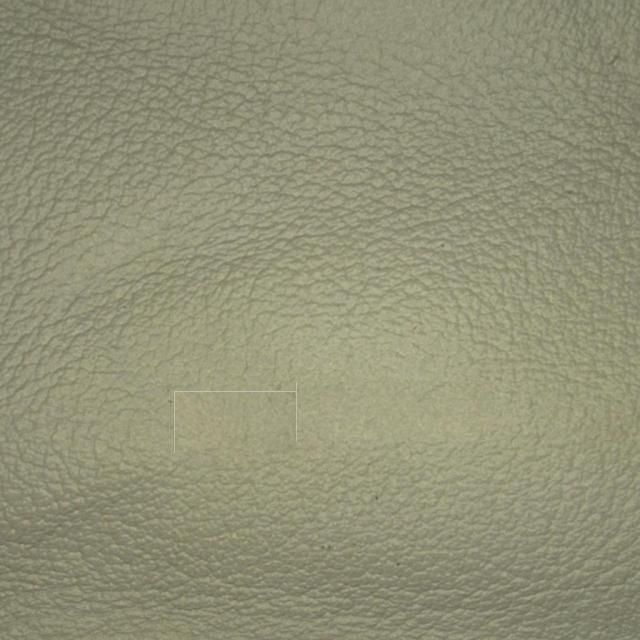Healed Injury: (154, 358, 525, 471)
